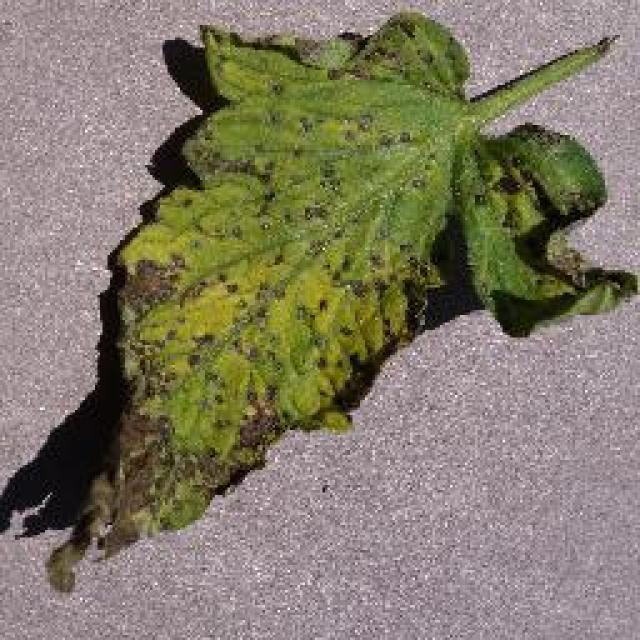Tomato___Septoria_leaf_spot: (48, 12, 638, 590)
